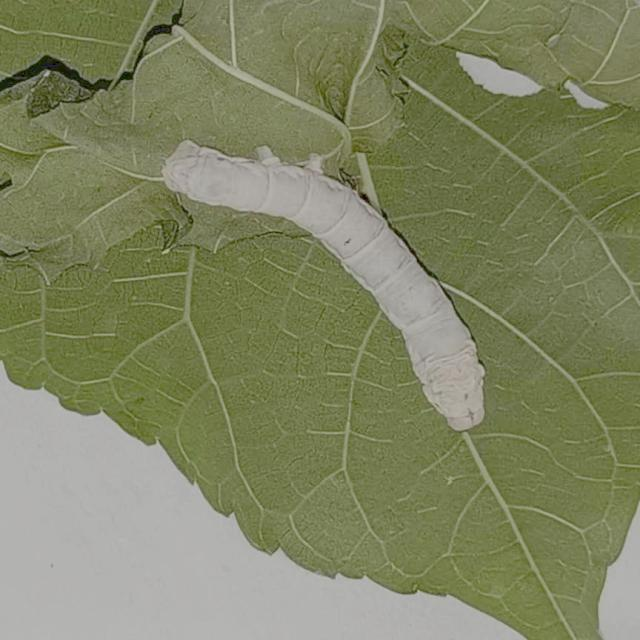Healthy: (143, 116, 502, 444)
